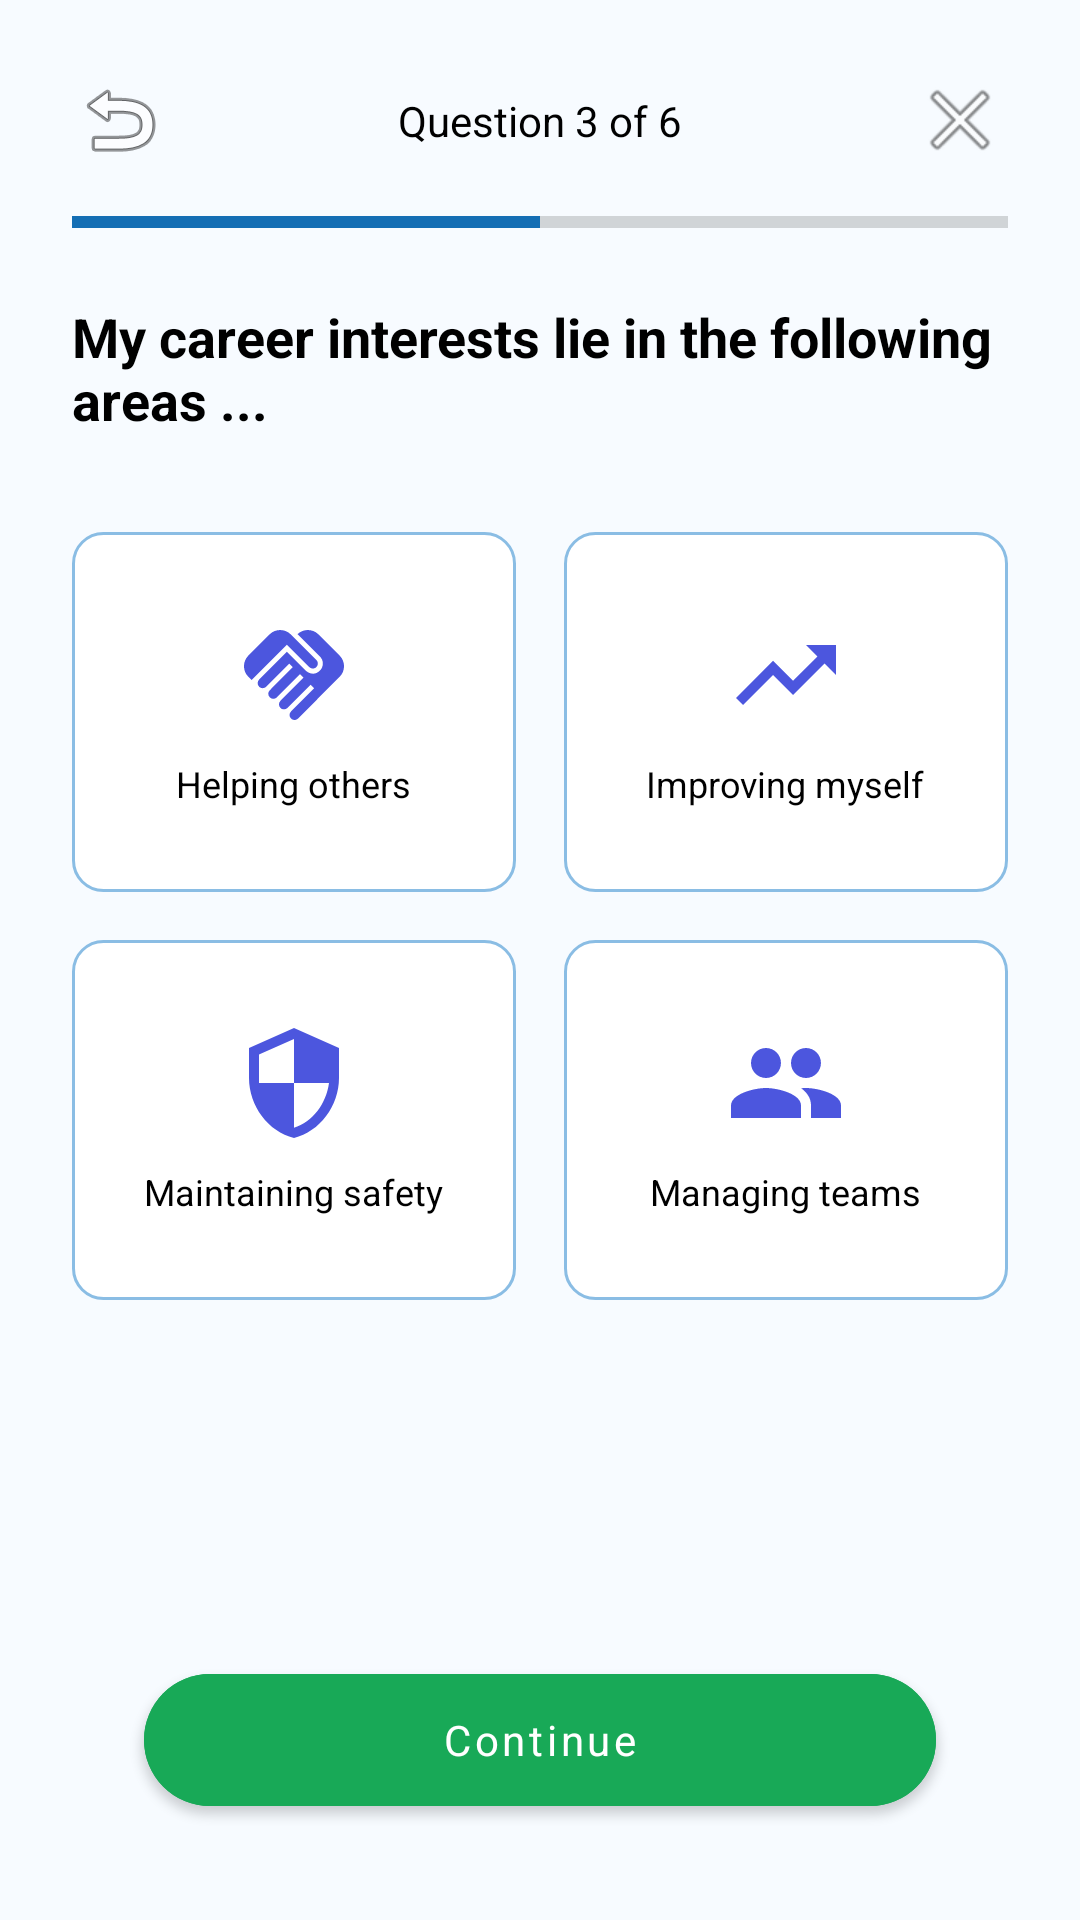

Where icons sit on this 1080 x 1920 app screen, as [x1, y1, x2, y2]:
close clear cancel: [930, 90, 990, 150]
handshake: [244, 630, 344, 720]
people: [731, 1048, 841, 1118]
revert: [87, 89, 156, 152]
security: [249, 1028, 339, 1138]
trending up: [736, 645, 836, 705]
